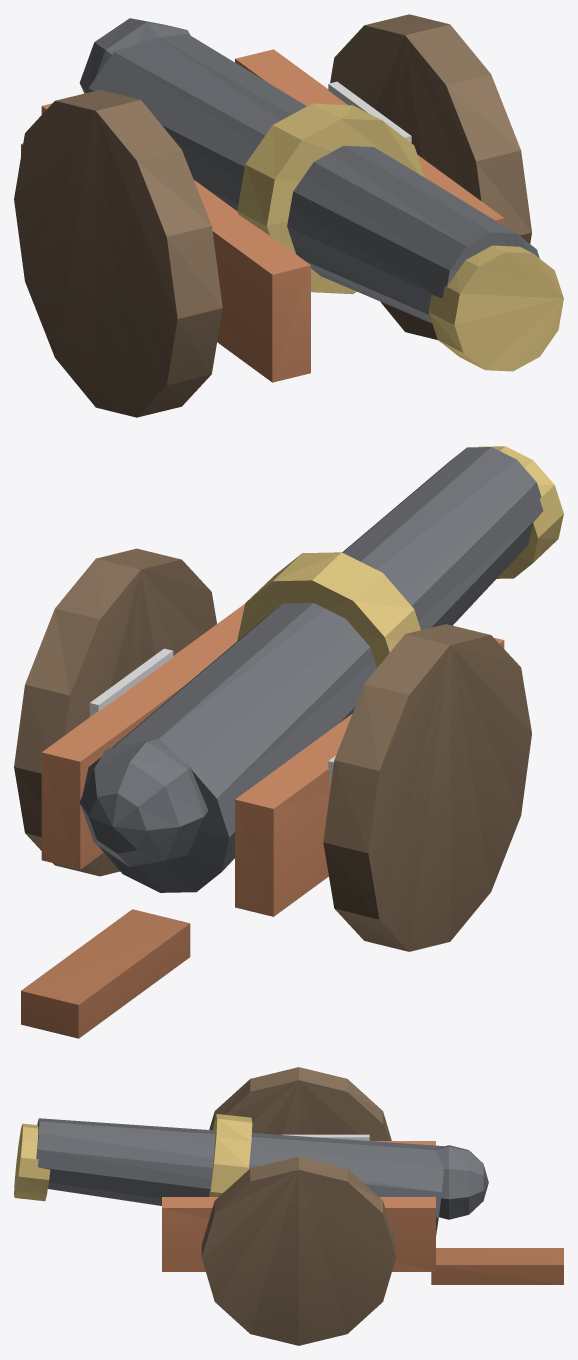
Rendered from Cannon.glb.
The picture shows the model from 3 angles, top to bottom: view 1: azimuth 30°, elevation 25°; view 2: azimuth 150°, elevation 25°; view 3: azimuth 270°, elevation 25°; orthographic projection. The views are drawn at different scales.
Visible parts, largest first — view 1: Body; view 2: Body; view 3: Body.
Boxes of the visible parts, x1=… form: Body: x1=14, y1=14, x2=563, y2=417; Body: x1=14, y1=446, x2=563, y2=1038; Body: x1=14, y1=1067, x2=563, y2=1345.
Size of the model in its own units: 0.55 by 0.44 by 1.24.
